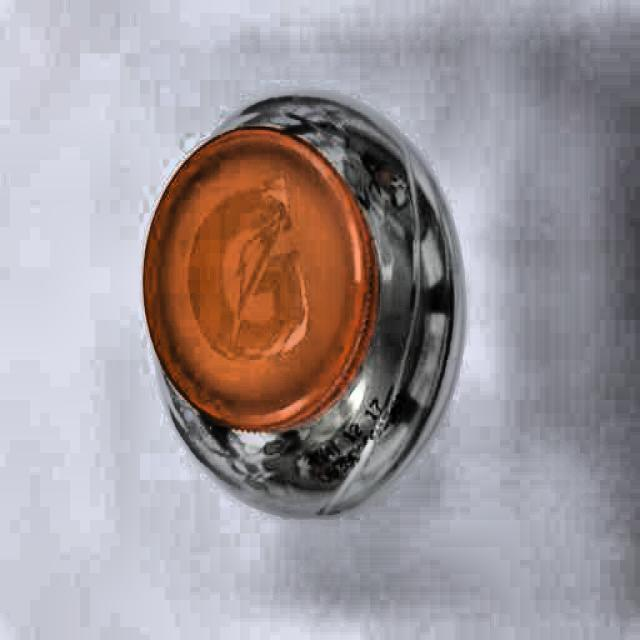plastic: (144, 97, 466, 520)
